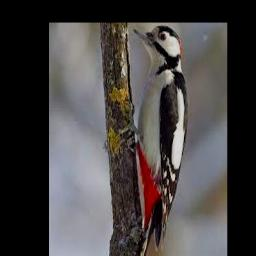Woodpecker: (123, 25, 188, 256)
